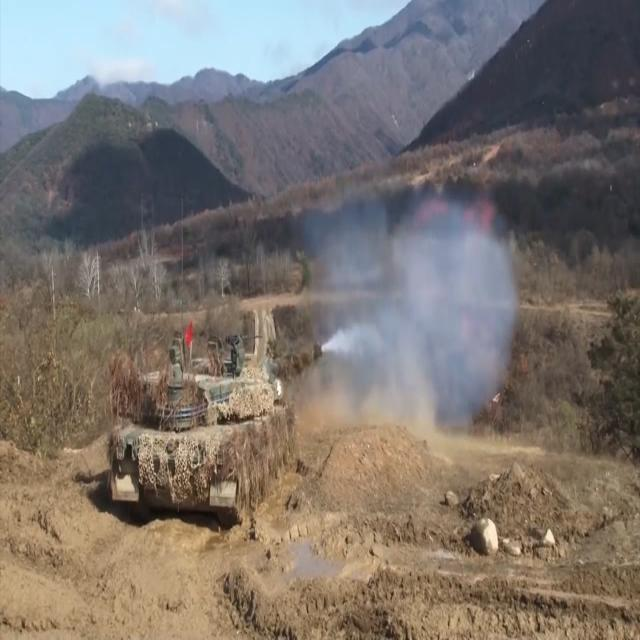korea tank: (106, 322, 326, 522)
